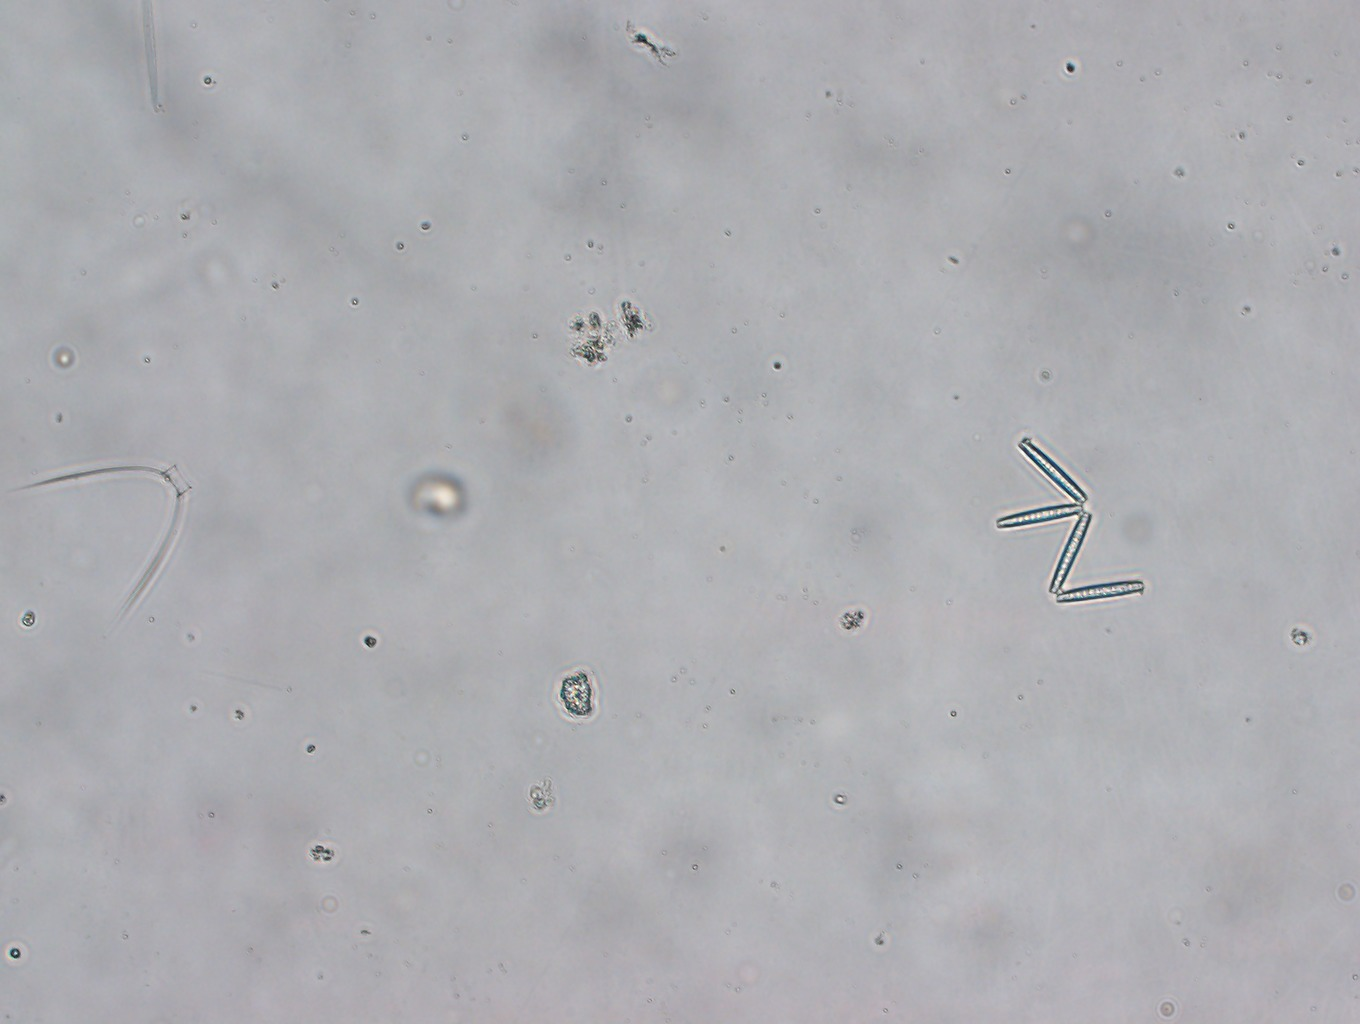chaetoceros: (12, 464, 191, 623)
thalassionema nitzschioides: (994, 436, 1145, 605)
